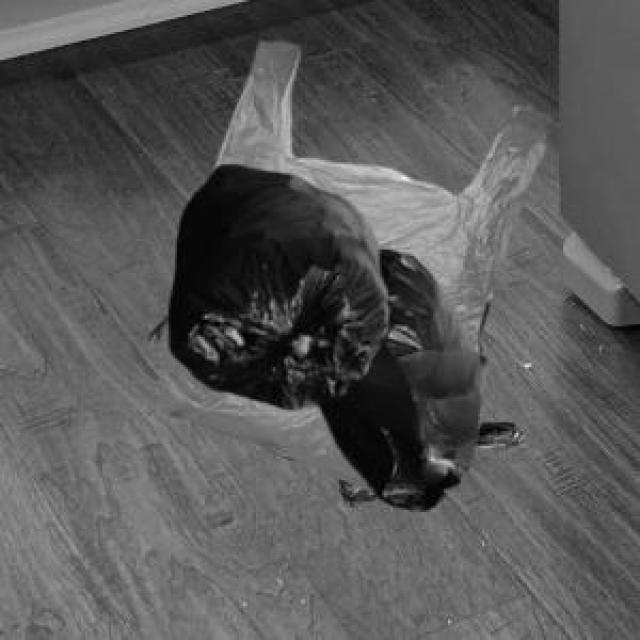miscellaneous trash: (145, 161, 521, 504), (164, 160, 482, 508)
